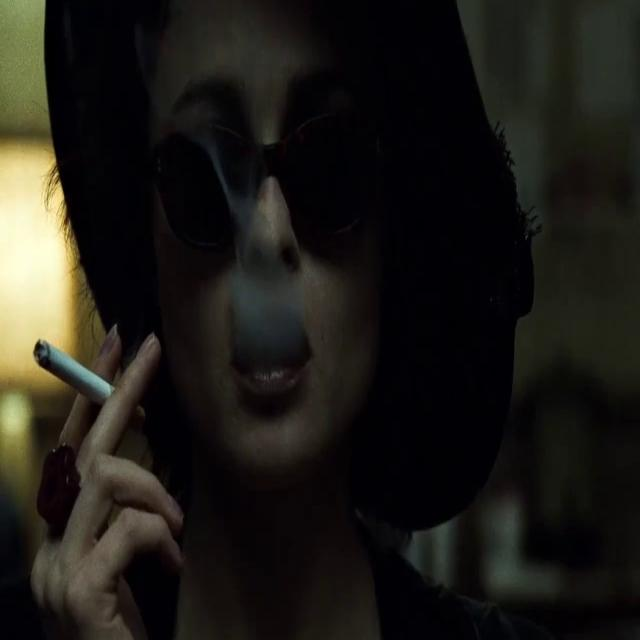Smooking: (25, 331, 117, 407)
